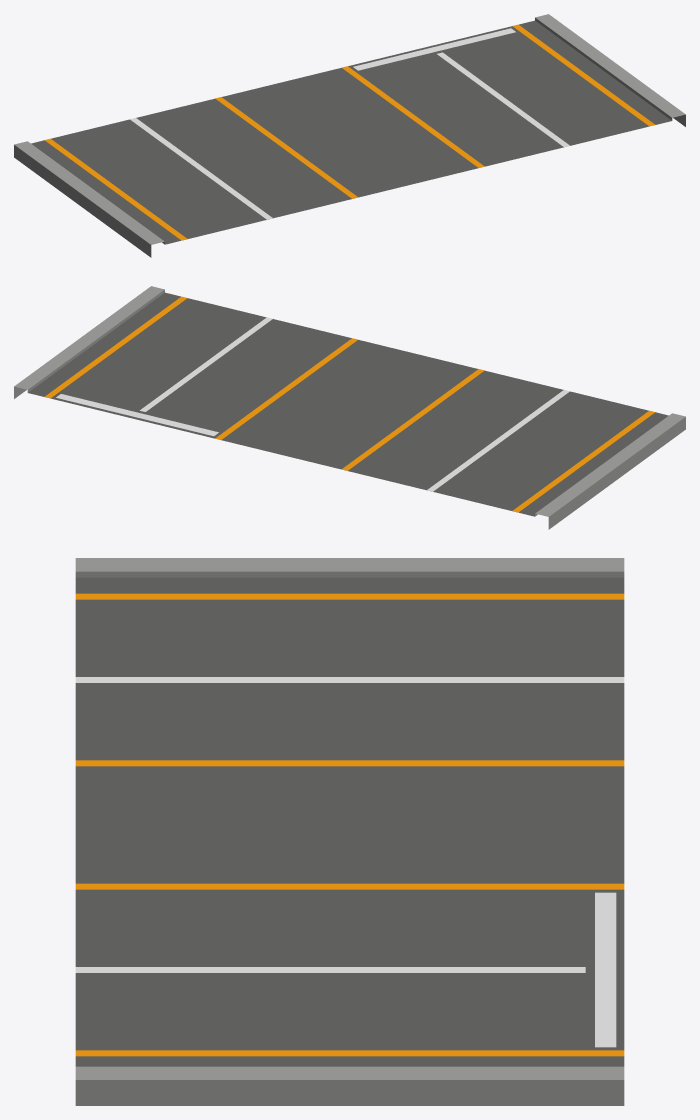
The model's file is Road_B_2L_1_7.fbx.
3 renders of one model, top to bottom at view 1: azimuth 30°, elevation 25°; view 2: azimuth 150°, elevation 25°; view 3: azimuth 270°, elevation 25°, orthographic. The views are drawn at different scales.
Visible parts, largest first — view 1: Road_B_2L_1_7; view 2: Road_B_2L_1_7; view 3: Road_B_2L_1_7.
Boxes of the visible parts, x1,y1,x2,y2 form: Road_B_2L_1_7: (14,14,685,257); Road_B_2L_1_7: (14,286,685,529); Road_B_2L_1_7: (75,558,624,1105).
Bounding box in the file's own units: 1800 × 41.48 × 800.
